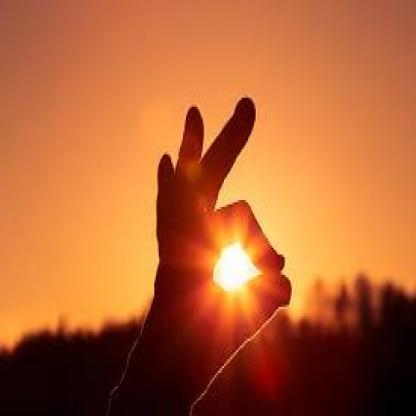ok: (146, 82, 296, 370)
